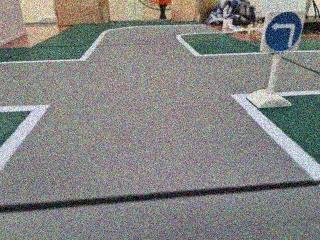left: (264, 9, 304, 55)
